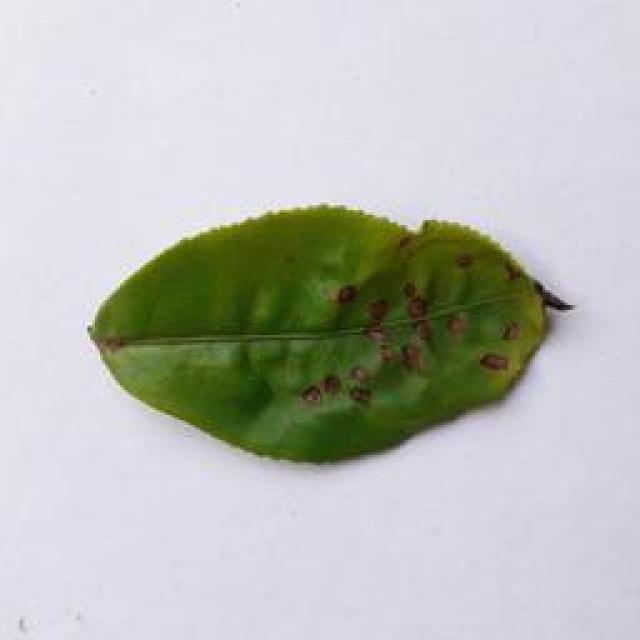Helopeltis: (91, 195, 569, 462)
